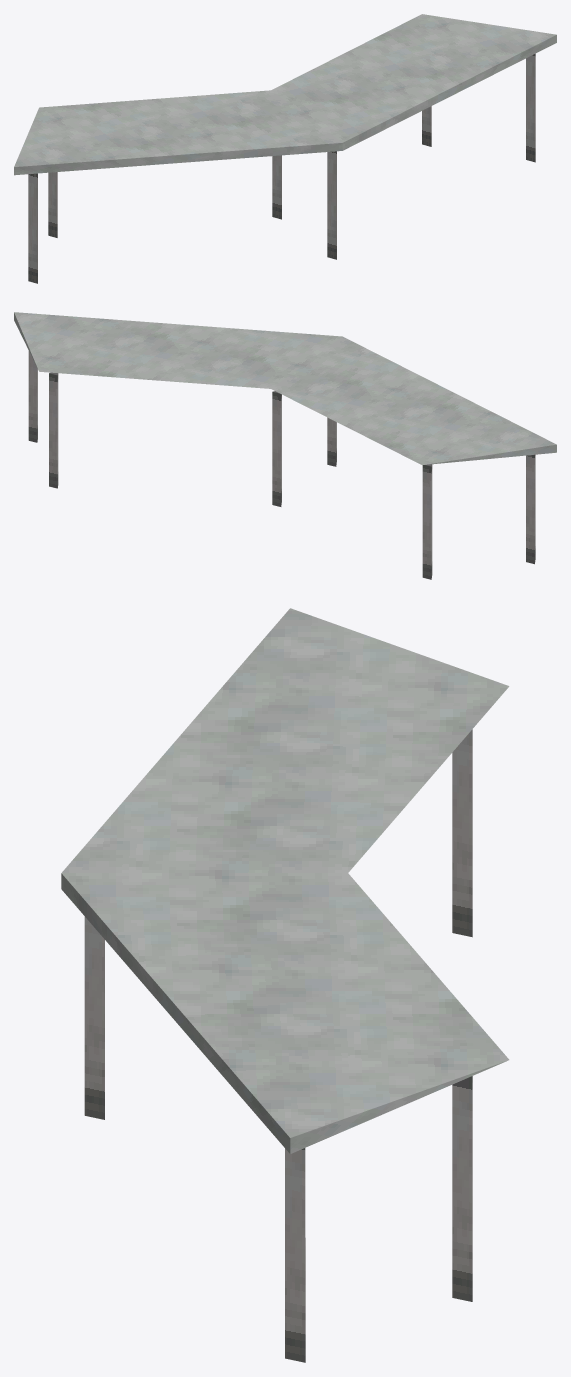
File: frn_all_mdrn_coffee_table_s02_l3.fbx
The picture shows the model from 3 angles, top to bottom: view 1: azimuth 30°, elevation 25°; view 2: azimuth 150°, elevation 25°; view 3: azimuth 270°, elevation 25°; orthographic projection. The views are drawn at different scales.
Parts seen in each view (by area): view 1: mesh_node; view 2: mesh_node; view 3: mesh_node.
Part boxes in pixels (left/top/right/bottom): mesh_node: left=14, top=14, right=556, bottom=283; mesh_node: left=14, top=312, right=556, bottom=579; mesh_node: left=61, top=608, right=509, bottom=1362.
Size of the model in its own units: 2.81 by 0.6 by 1.
